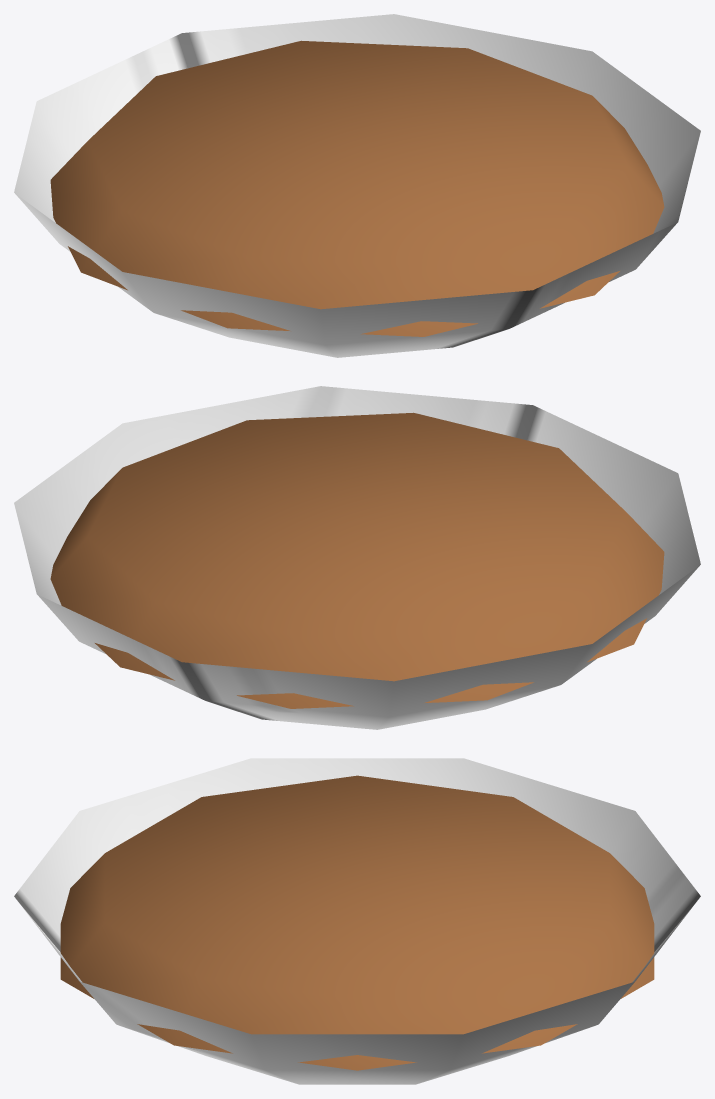
File: meal_simple.obj
3 renders of one model, top to bottom at view 1: azimuth 30°, elevation 25°; view 2: azimuth 150°, elevation 25°; view 3: azimuth 270°, elevation 25°, orthographic. The views are drawn at different scales.
Parts seen in each view (by area): view 1: meal_simple_component_02, meal_simple_component_01; view 2: meal_simple_component_02, meal_simple_component_01; view 3: meal_simple_component_02, meal_simple_component_01.
Part boxes in pixels (x1,y1,x2,y2): meal_simple_component_02: (50, 40, 664, 336); meal_simple_component_01: (14, 14, 700, 357); meal_simple_component_02: (50, 412, 664, 708); meal_simple_component_01: (14, 386, 700, 729); meal_simple_component_02: (60, 775, 654, 1070); meal_simple_component_01: (14, 758, 700, 1084).
Size of the model in its own units: 0.4184 by 0.09 by 0.44.
